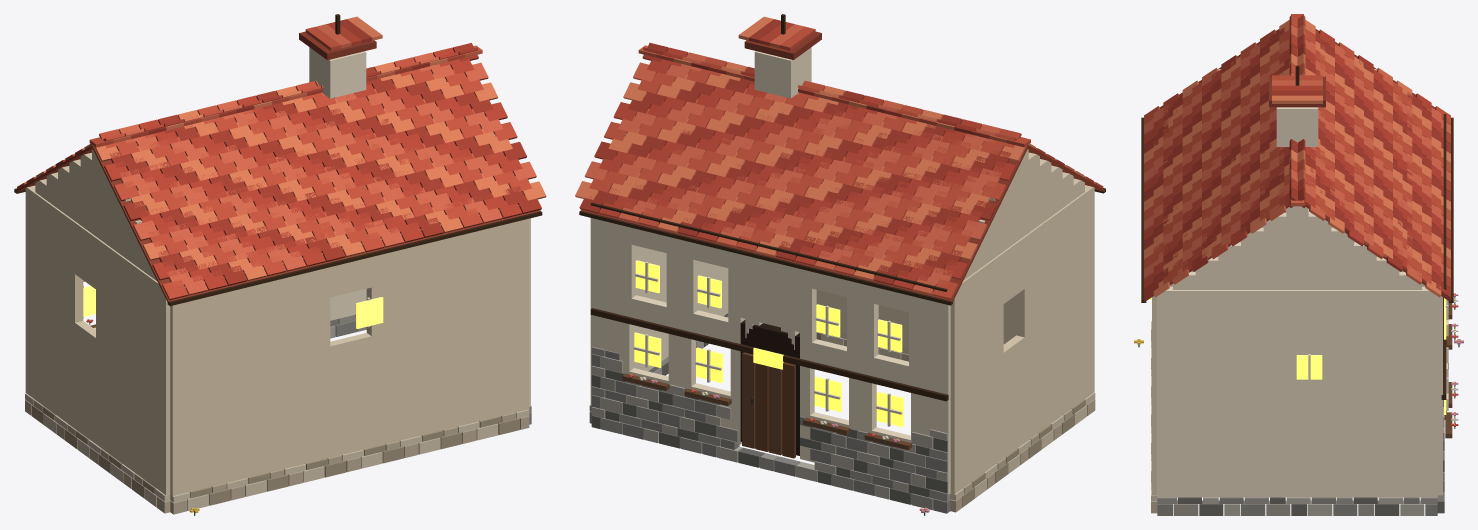
The model's file is vn_building_school.glb.
3 renders of one model, left to right at view 1: azimuth 30°, elevation 25°; view 2: azimuth 150°, elevation 25°; view 3: azimuth 270°, elevation 25°, orthographic.
Parts seen in each view (by area): view 1: school_walls, school_roof, school_stone, school_wood, school_win; view 2: school_walls, school_roof, school_stone, school_wood, school_win; view 3: school_walls, school_roof, school_stone, school_wood, school_win, school_veg.
Boxes of the visible parts, box(x1,y1,x2,y2) form: school_walls: box(25, 112, 530, 496); school_roof: box(15, 16, 546, 303); school_stone: box(25, 47, 531, 514); school_wood: box(14, 14, 542, 327); school_win: box(83, 285, 383, 328); school_walls: box(590, 112, 1094, 494); school_roof: box(575, 16, 1104, 302); school_stone: box(589, 47, 1095, 513); school_wood: box(579, 14, 1105, 458); school_win: box(633, 260, 903, 455); school_walls: box(1152, 69, 1442, 497); school_roof: box(1143, 14, 1451, 301); school_stone: box(1151, 107, 1444, 515); school_wood: box(1141, 65, 1453, 438); school_win: box(1149, 297, 1448, 414); school_veg: box(1134, 293, 1463, 428).
Bounding box in the file's own units: 7.49 × 7.18 × 5.51.
